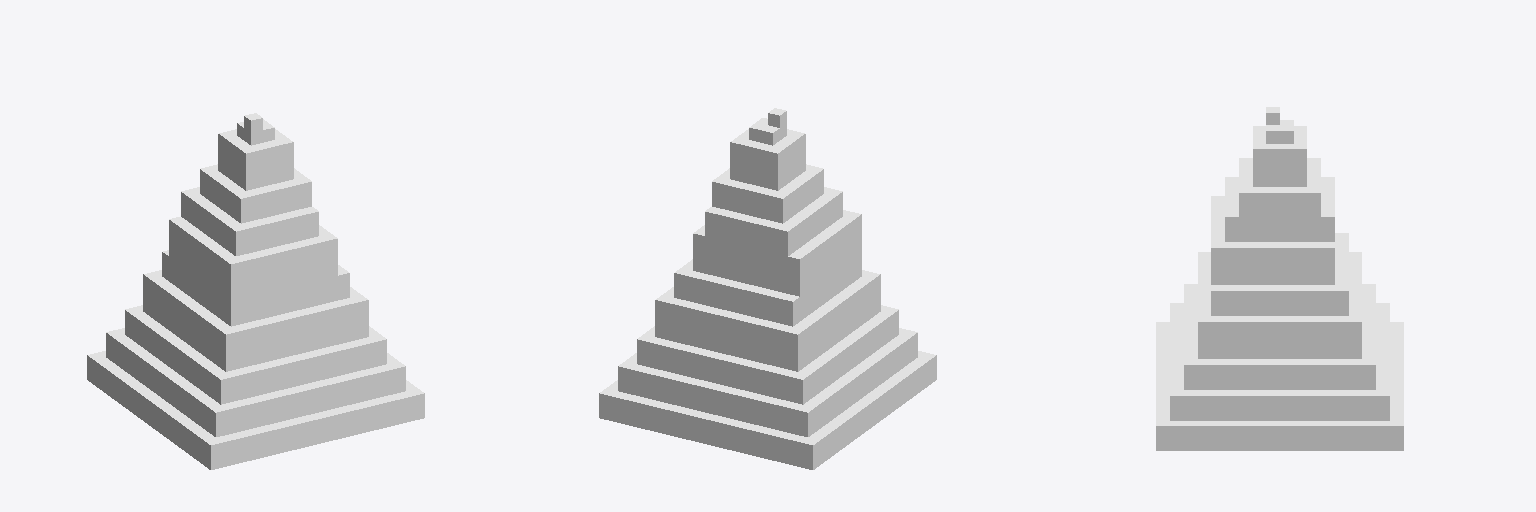
The model's file is obstacle1-3-spike1.obj.
3 renders of one model, left to right at view 1: azimuth 30°, elevation 25°; view 2: azimuth 150°, elevation 25°; view 3: azimuth 270°, elevation 25°, orthographic.
Parts seen in each view (by area): view 1: spike1; view 2: spike1; view 3: spike1.
Boxes of the visible parts, box(x1,y1,x2,y2) form: spike1: box(87, 113, 424, 469); spike1: box(599, 108, 936, 469); spike1: box(1156, 107, 1403, 450).
Bounding box in the file's own units: 1.8 × 2.3 × 1.8.